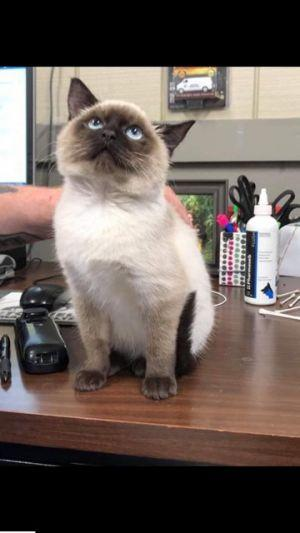siamese: (49, 62, 209, 210)
